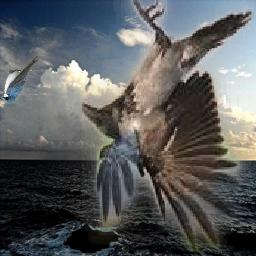Crow: (82, 0, 254, 252)
Swallow: (1, 57, 39, 104)
